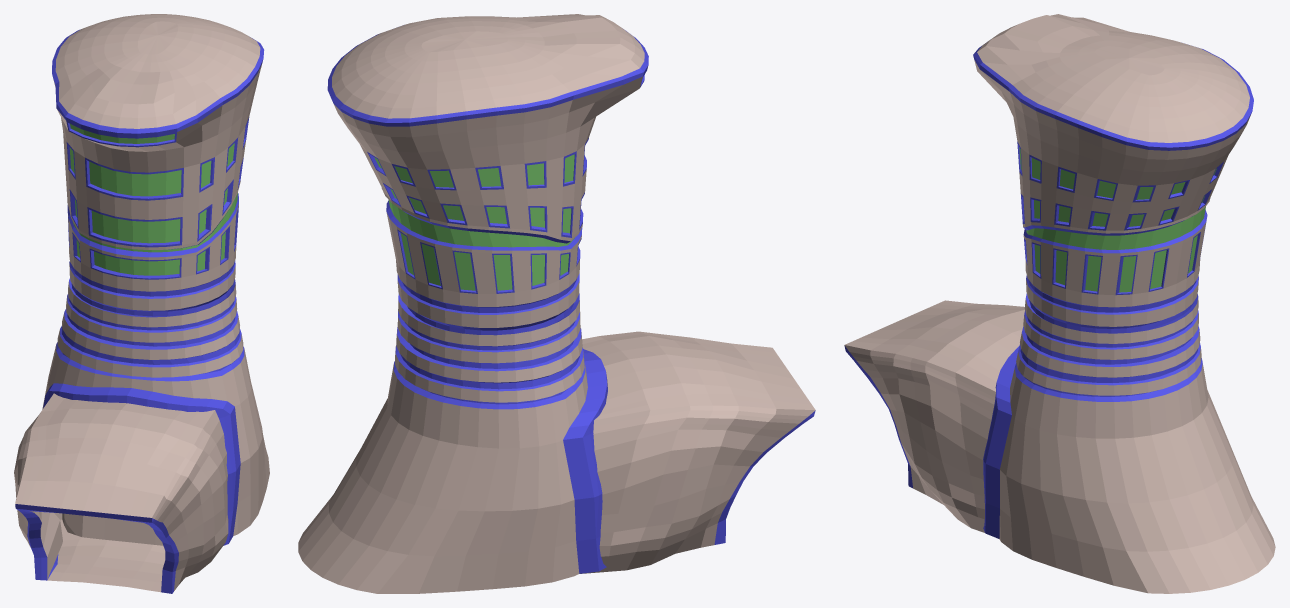
Rendered from Commissariat_1_MC.fbx.
The picture shows the model from 3 angles, left to right: view 1: azimuth 30°, elevation 25°; view 2: azimuth 150°, elevation 25°; view 3: azimuth 270°, elevation 25°; orthographic projection. The views are drawn at different scales.
Visible parts, largest first — view 1: Cube.011; view 2: Cube.011; view 3: Cube.011.
Part boxes in pixels (left/top/right/bottom): Cube.011: left=14, top=14, right=269, bottom=593; Cube.011: left=298, top=14, right=815, bottom=593; Cube.011: left=844, top=14, right=1275, bottom=593.
Bounding box in the file's own units: 2315 × 2926 × 2366.
